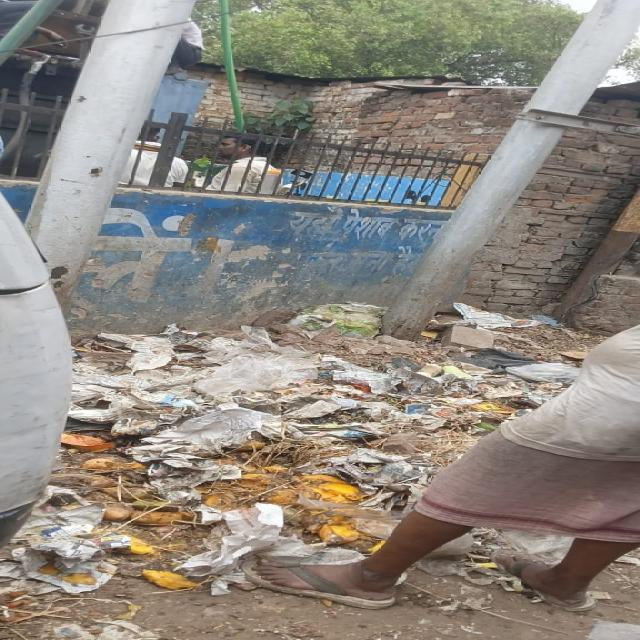Garbage: (75, 328, 421, 531)
